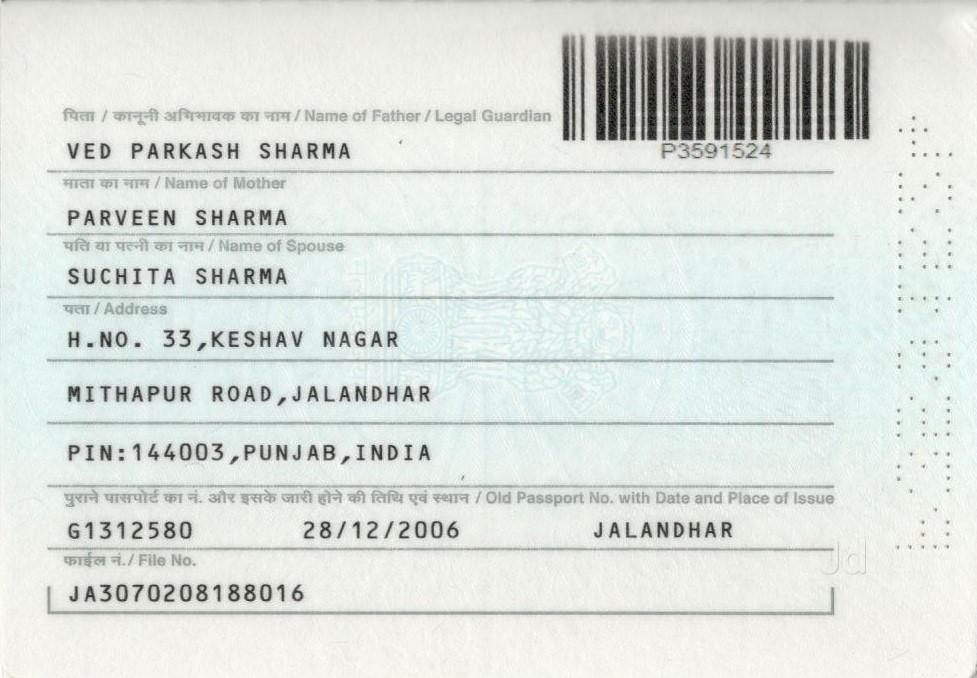File_no: (56, 579, 310, 617)
address: (50, 319, 469, 480)
father_name: (54, 129, 370, 170)
mother_name: (51, 191, 310, 235)
old_passport_details: (51, 509, 745, 548)
passport_no: (654, 130, 787, 176)
spouse_name: (45, 257, 302, 298)
